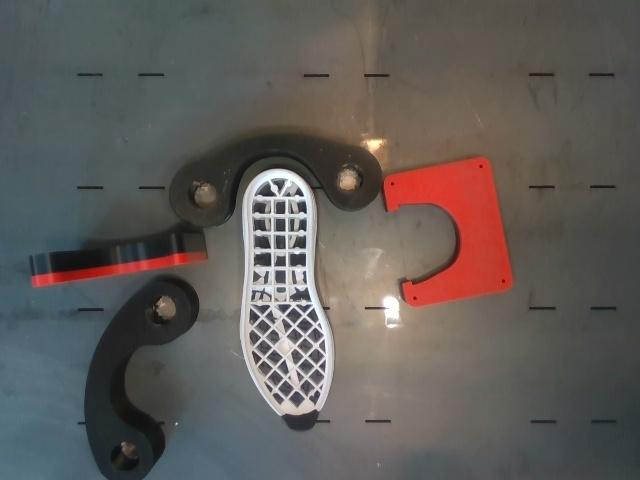shoes: (244, 171, 331, 430)
